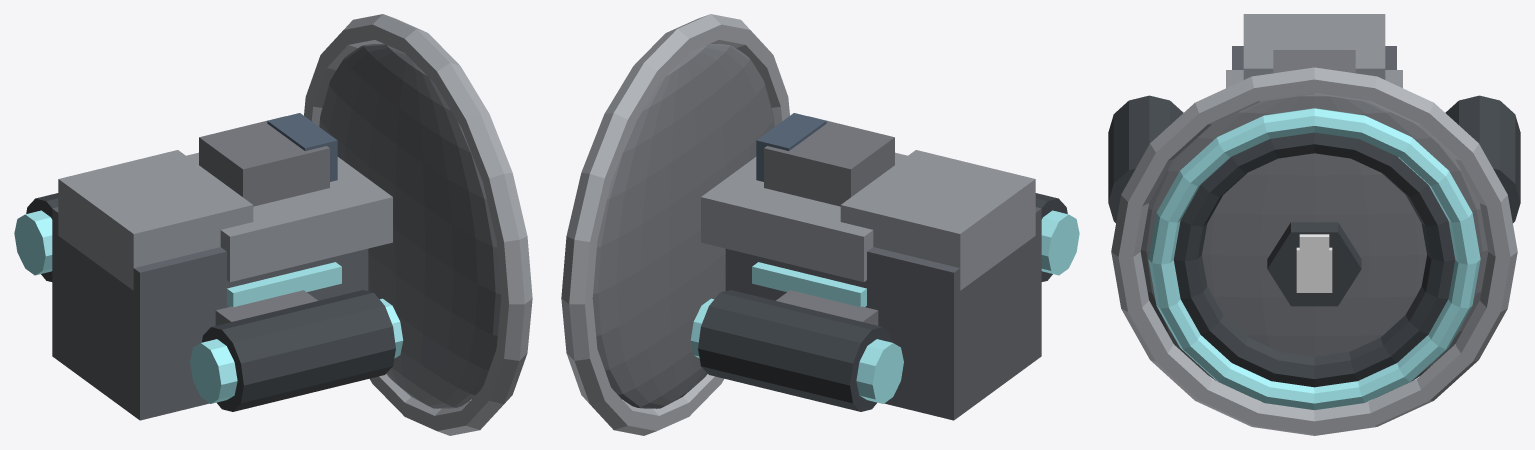
File: FC_Shield.fbx
3 renders of one model, left to right at view 1: azimuth 30°, elevation 25°; view 2: azimuth 150°, elevation 25°; view 3: azimuth 270°, elevation 25°, orthographic. The views are drawn at different scales.
Parts seen in each view (by area): view 1: FC_Shield; view 2: FC_Shield; view 3: FC_Shield.
Boxes of the visible parts, x1,y1,x2,y2 form: FC_Shield: [14, 14, 532, 435]; FC_Shield: [561, 14, 1079, 435]; FC_Shield: [1108, 14, 1520, 435].
Size of the model in its own units: 0.67 by 0.69 by 0.7.
